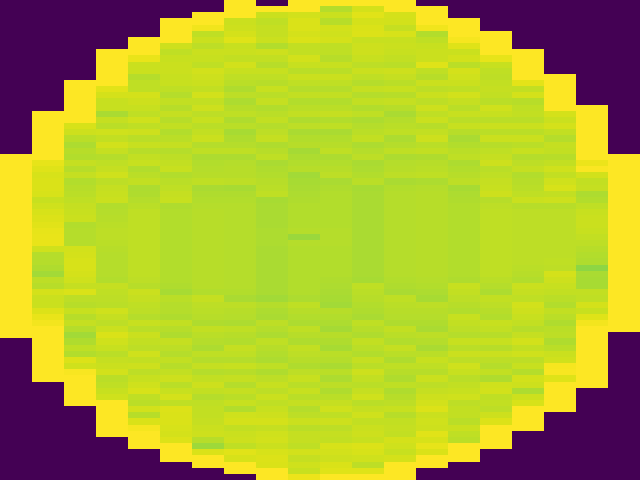sphere: (1, 6, 640, 480)
